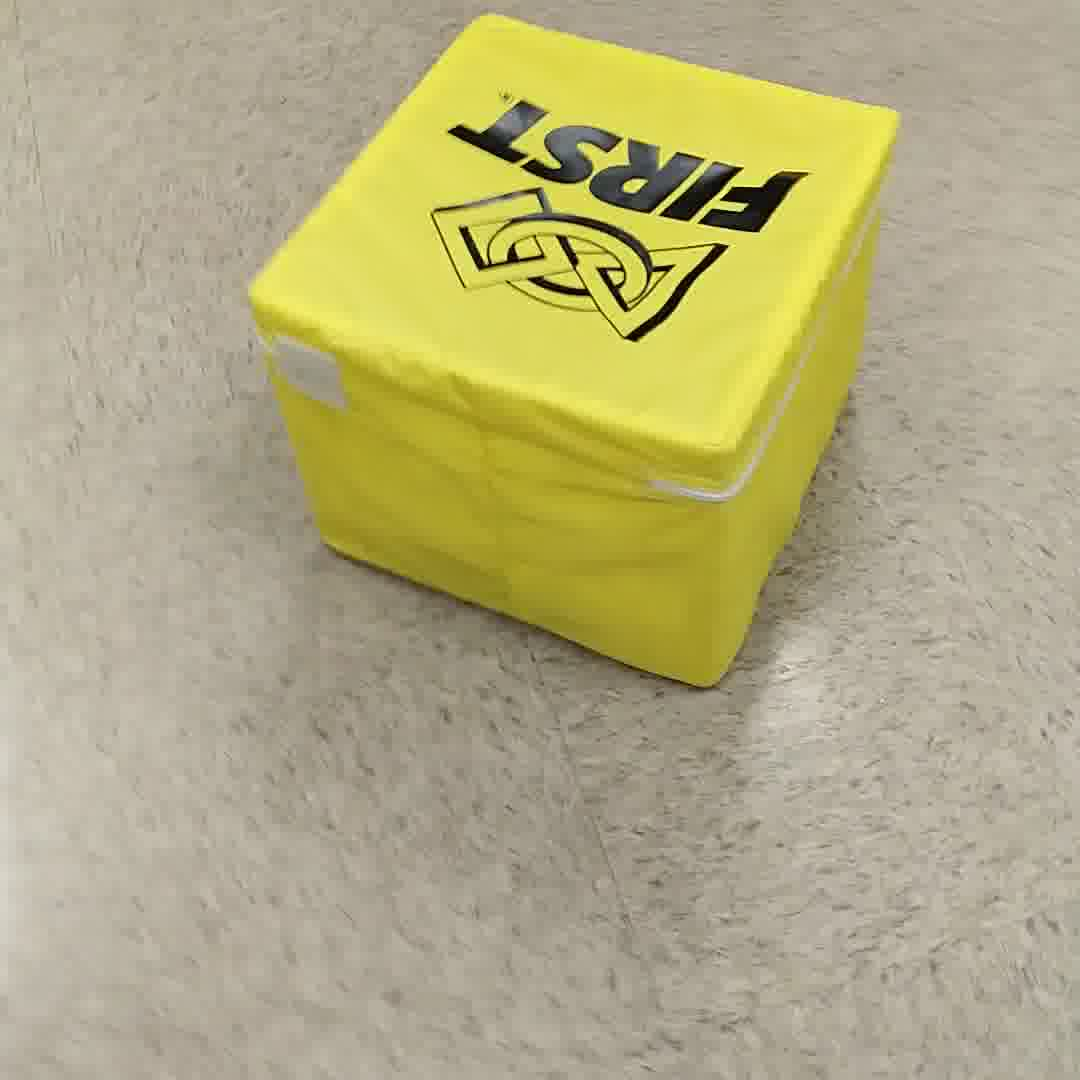box: (241, 29, 903, 684)
